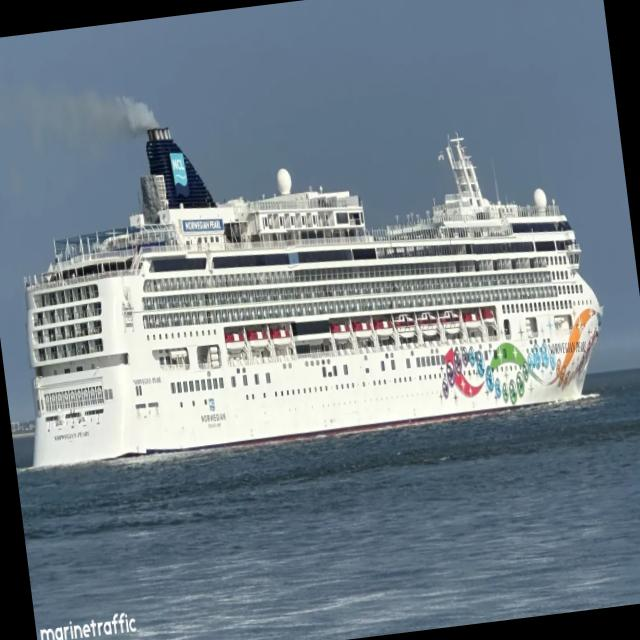Cruise: (24, 129, 602, 467)
